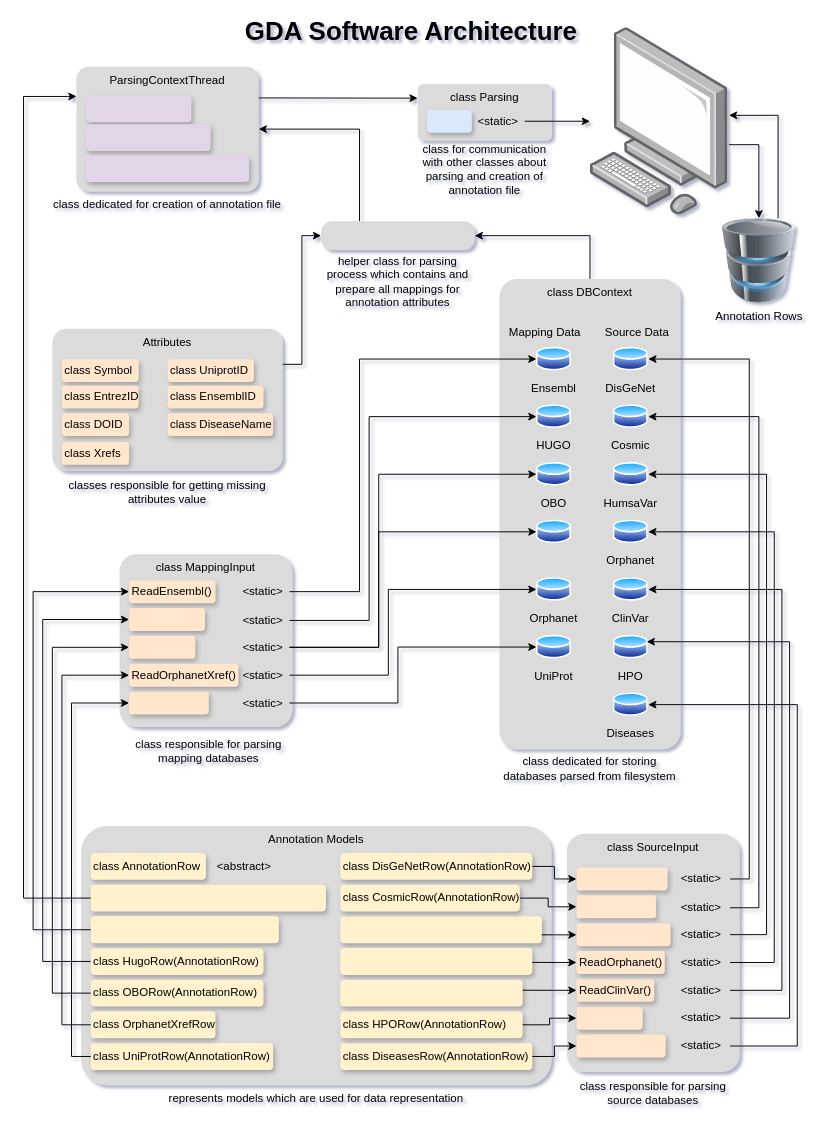
This 828x1134 diagram has some shape labels left out. The shapes that lost their labels are listed below. From the top down, each one's centre as x and y in pixels, then its label:
point 139,110: GetAnnotationSet()
point 450,122: Parse()
point 658,120: Frontend
point 149,138: GetAnnotationSetDict()
point 168,169: CreateAnnotationFile(filePath)
point 397,235: class AnnotationContext
point 553,531: RGD
point 167,620: ReadHUGO()
point 163,648: ReadOBO()
point 169,704: ReadUniProt()
point 208,899: class AnnotationRowOutput(AnnotationRow)
point 622,880: ReadDisGeNet()
point 616,908: ReadCosmic()
point 185,930: class EnsemblRow(AnnotationRow)
point 441,930: class HumsaVarRow(AnnotationRow)
point 624,935: ReadHumsaVar()
point 437,962: class OrphanetRow(AnnotationRow)
point 432,994: class ClinVarRow(AnnotationRow)
point 610,1019: ReadHPO()
point 621,1047: ReadDiseases()
